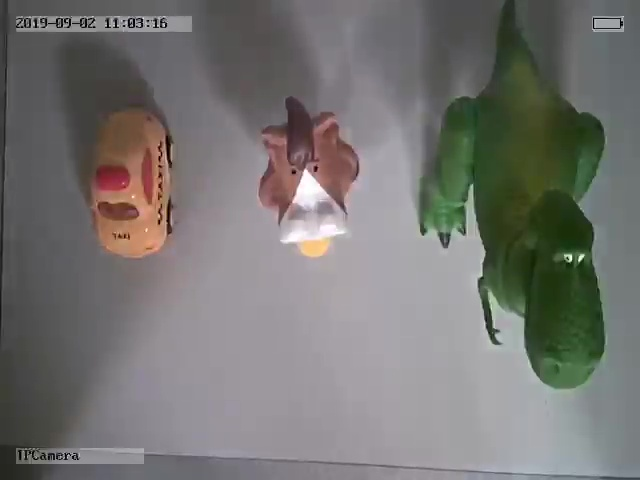car: (87, 105, 177, 259)
horse: (259, 97, 361, 257)
rex: (419, 4, 604, 389)
